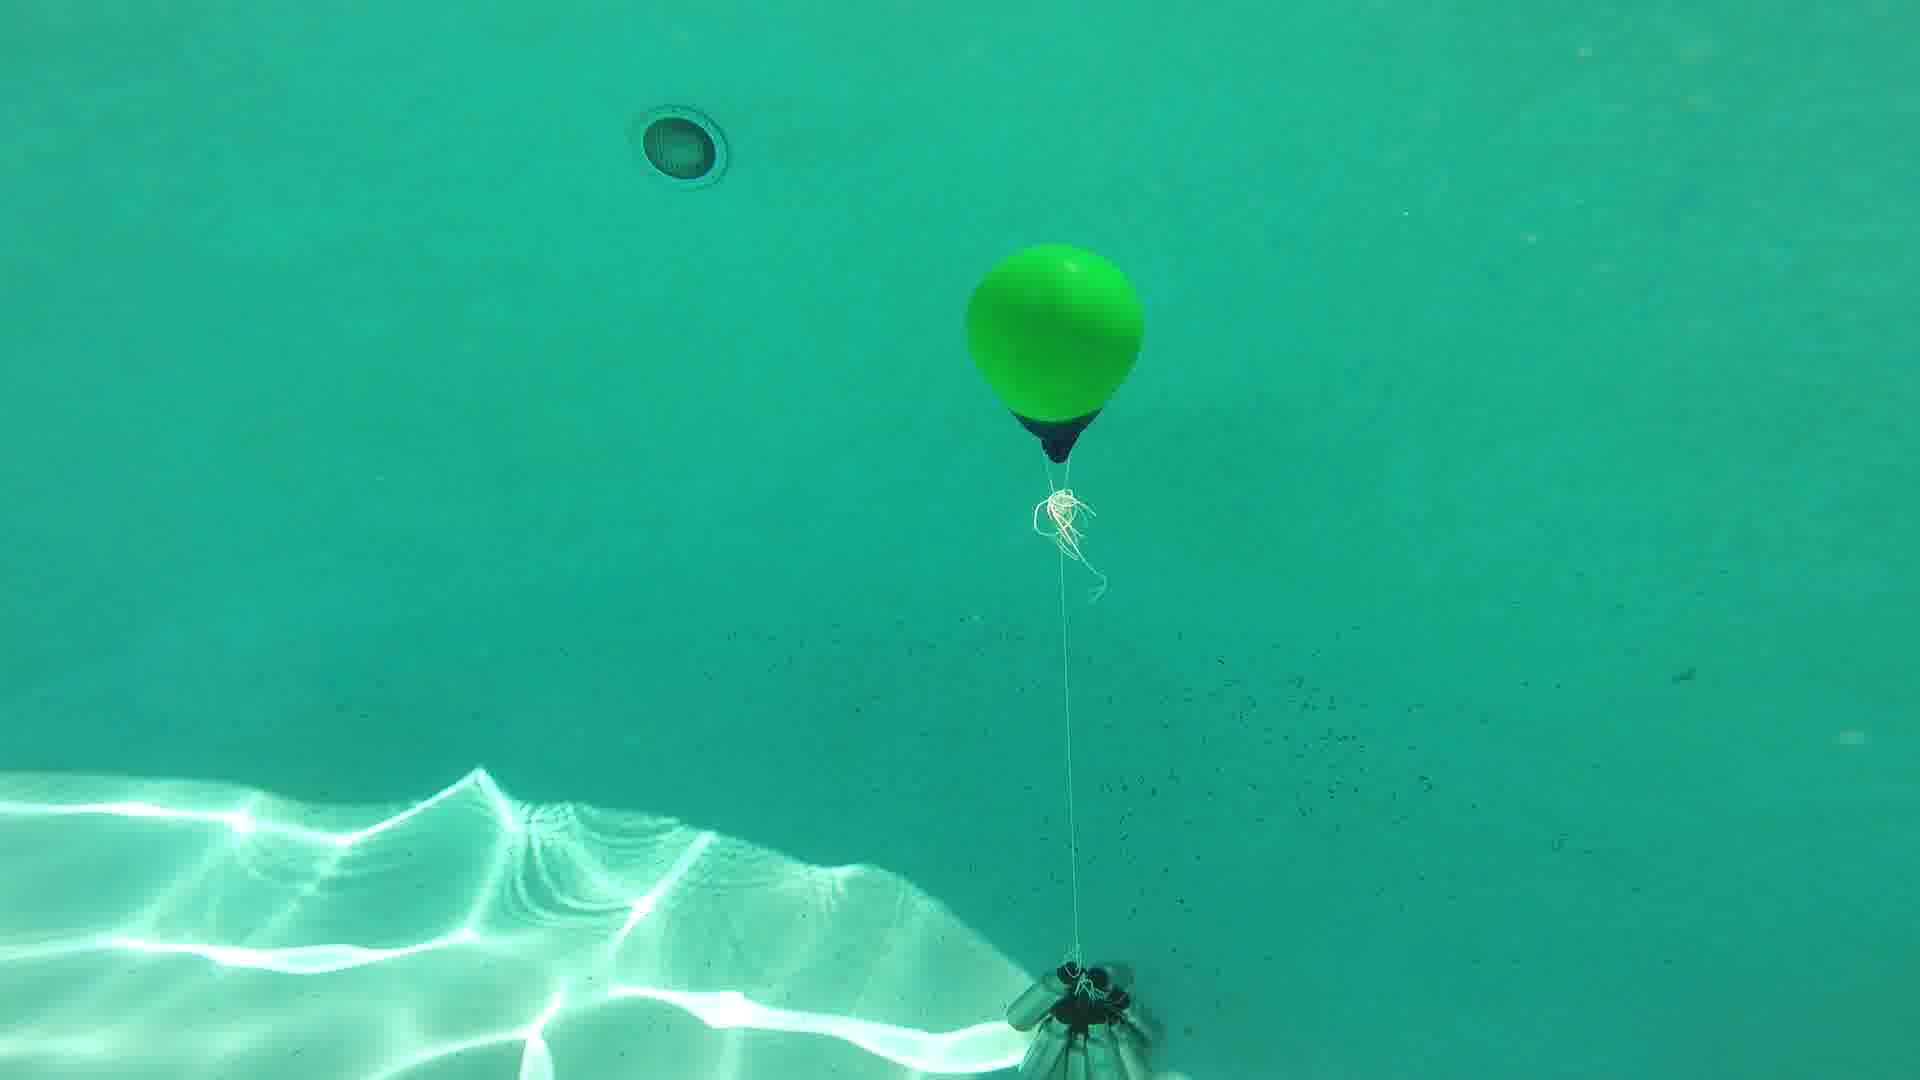yellow_buoy: (965, 243, 1147, 467)
